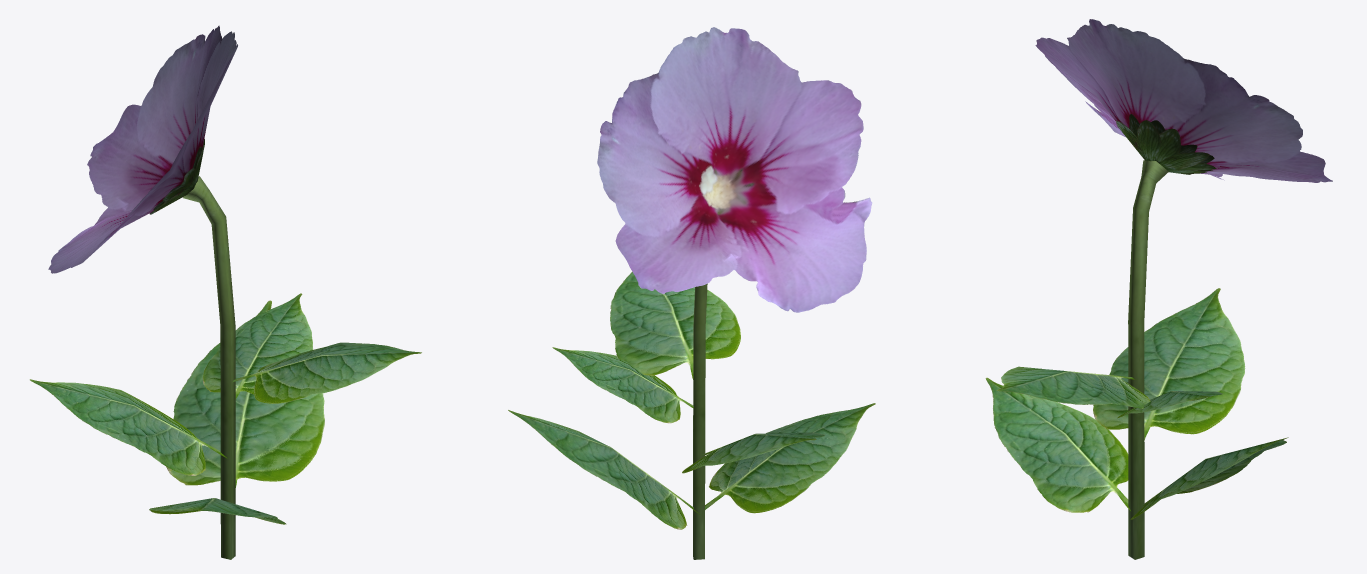
The model's file is Flower_06.FBX.
3 renders of one model, left to right at view 1: azimuth 30°, elevation 25°; view 2: azimuth 150°, elevation 25°; view 3: azimuth 270°, elevation 25°, orthographic.
Parts seen in each view (by area): view 1: Flower_06; view 2: Flower_06; view 3: Flower_06.
Part boxes in pixels (bbox=[...]): Flower_06: bbox=[29, 25, 421, 559]; Flower_06: bbox=[508, 27, 875, 559]; Flower_06: bbox=[985, 19, 1332, 559].
Bounding box in the file's own units: 0.5154 × 0.7154 × 0.4975.
